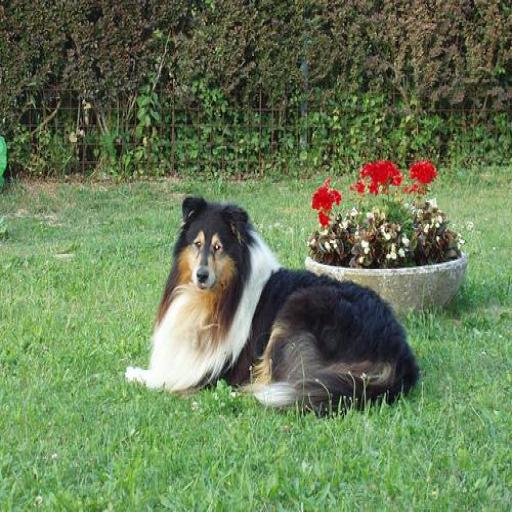dog_face: (177, 195, 248, 294)
